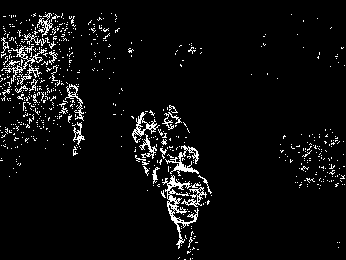person: (161, 146, 213, 260), (156, 100, 188, 182), (128, 106, 160, 187), (61, 85, 87, 158)
